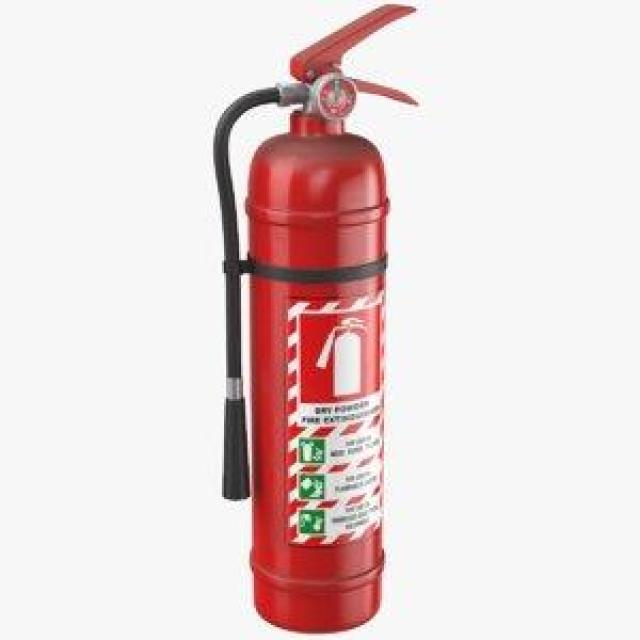fire_extinguisher: (202, 0, 426, 638)
